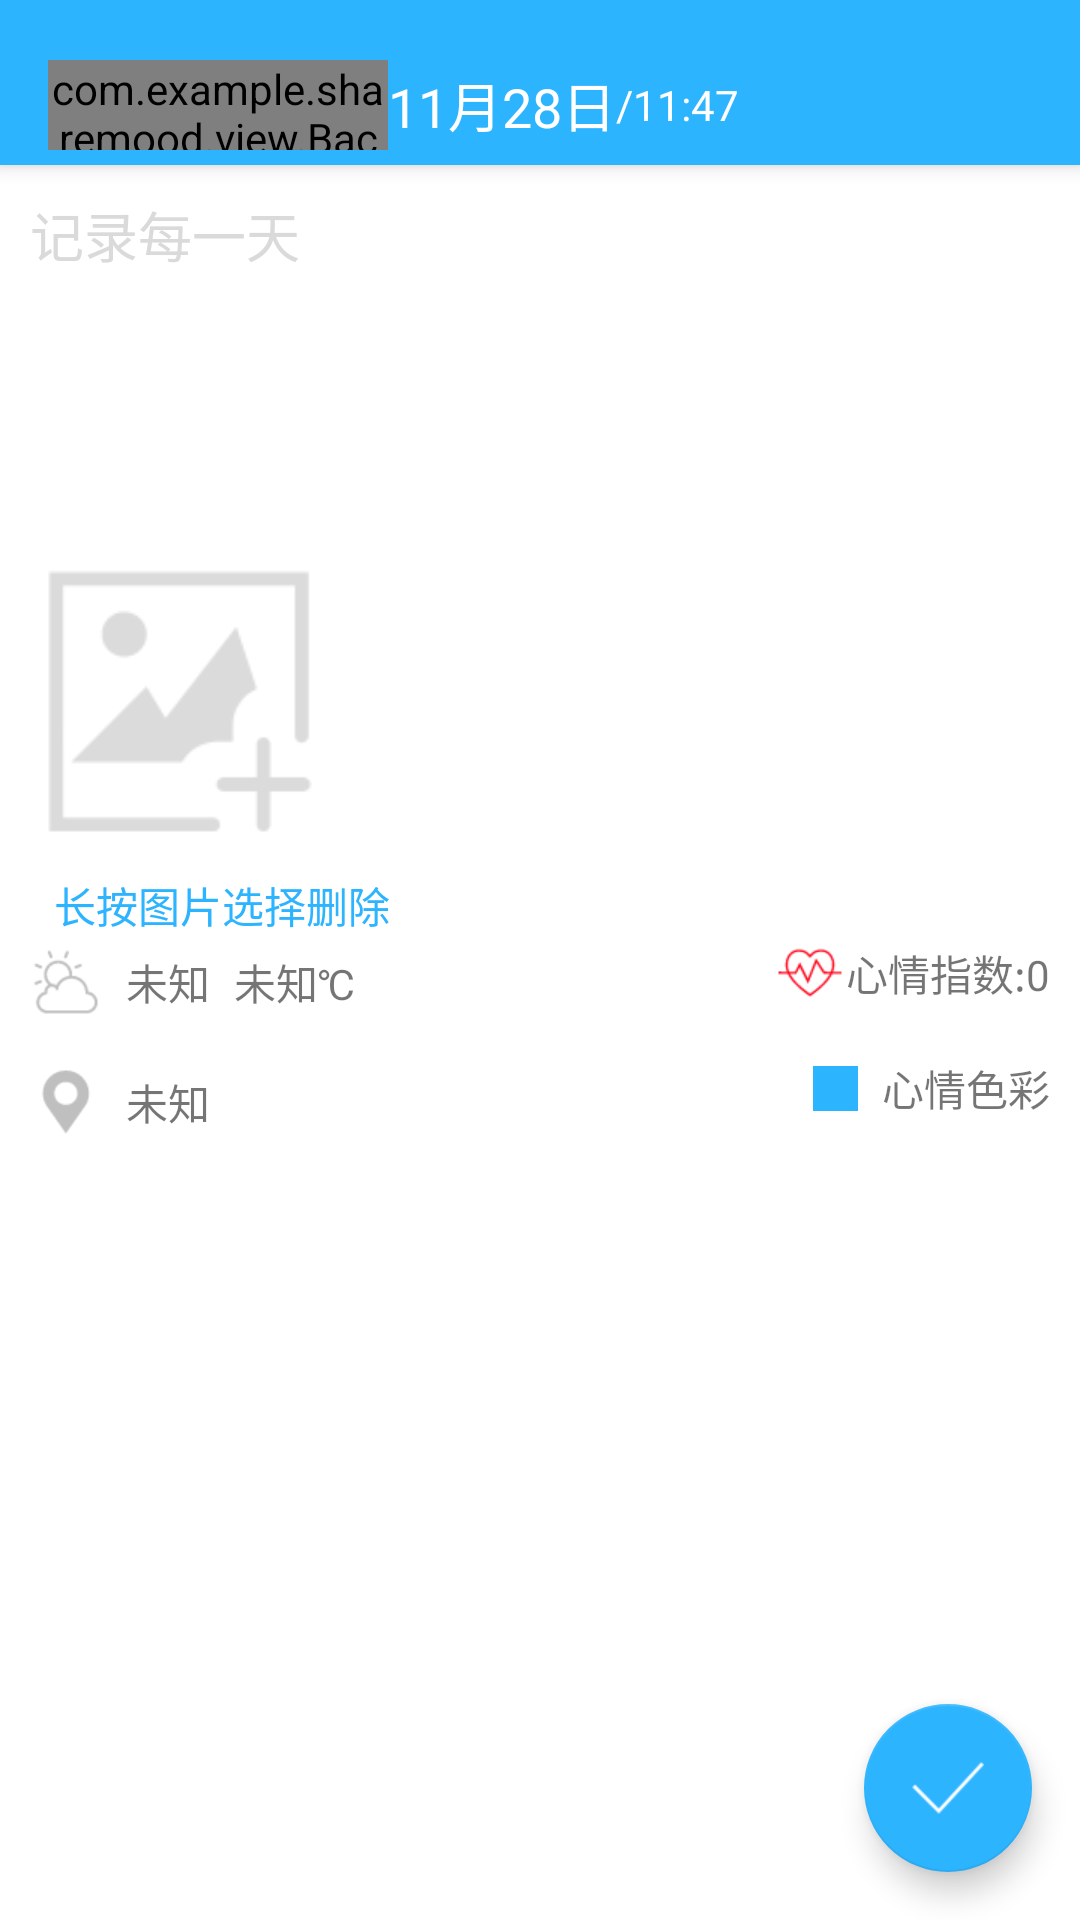

Screen size 1080 × 1920. Icon name, then its box in pixels as detection(x1, y1, x2, y2):
add picture: detection(50, 573, 309, 831)
location: detection(42, 1070, 89, 1133)
save: detection(864, 1704, 1032, 1872)
weather: detection(35, 951, 98, 1014)
